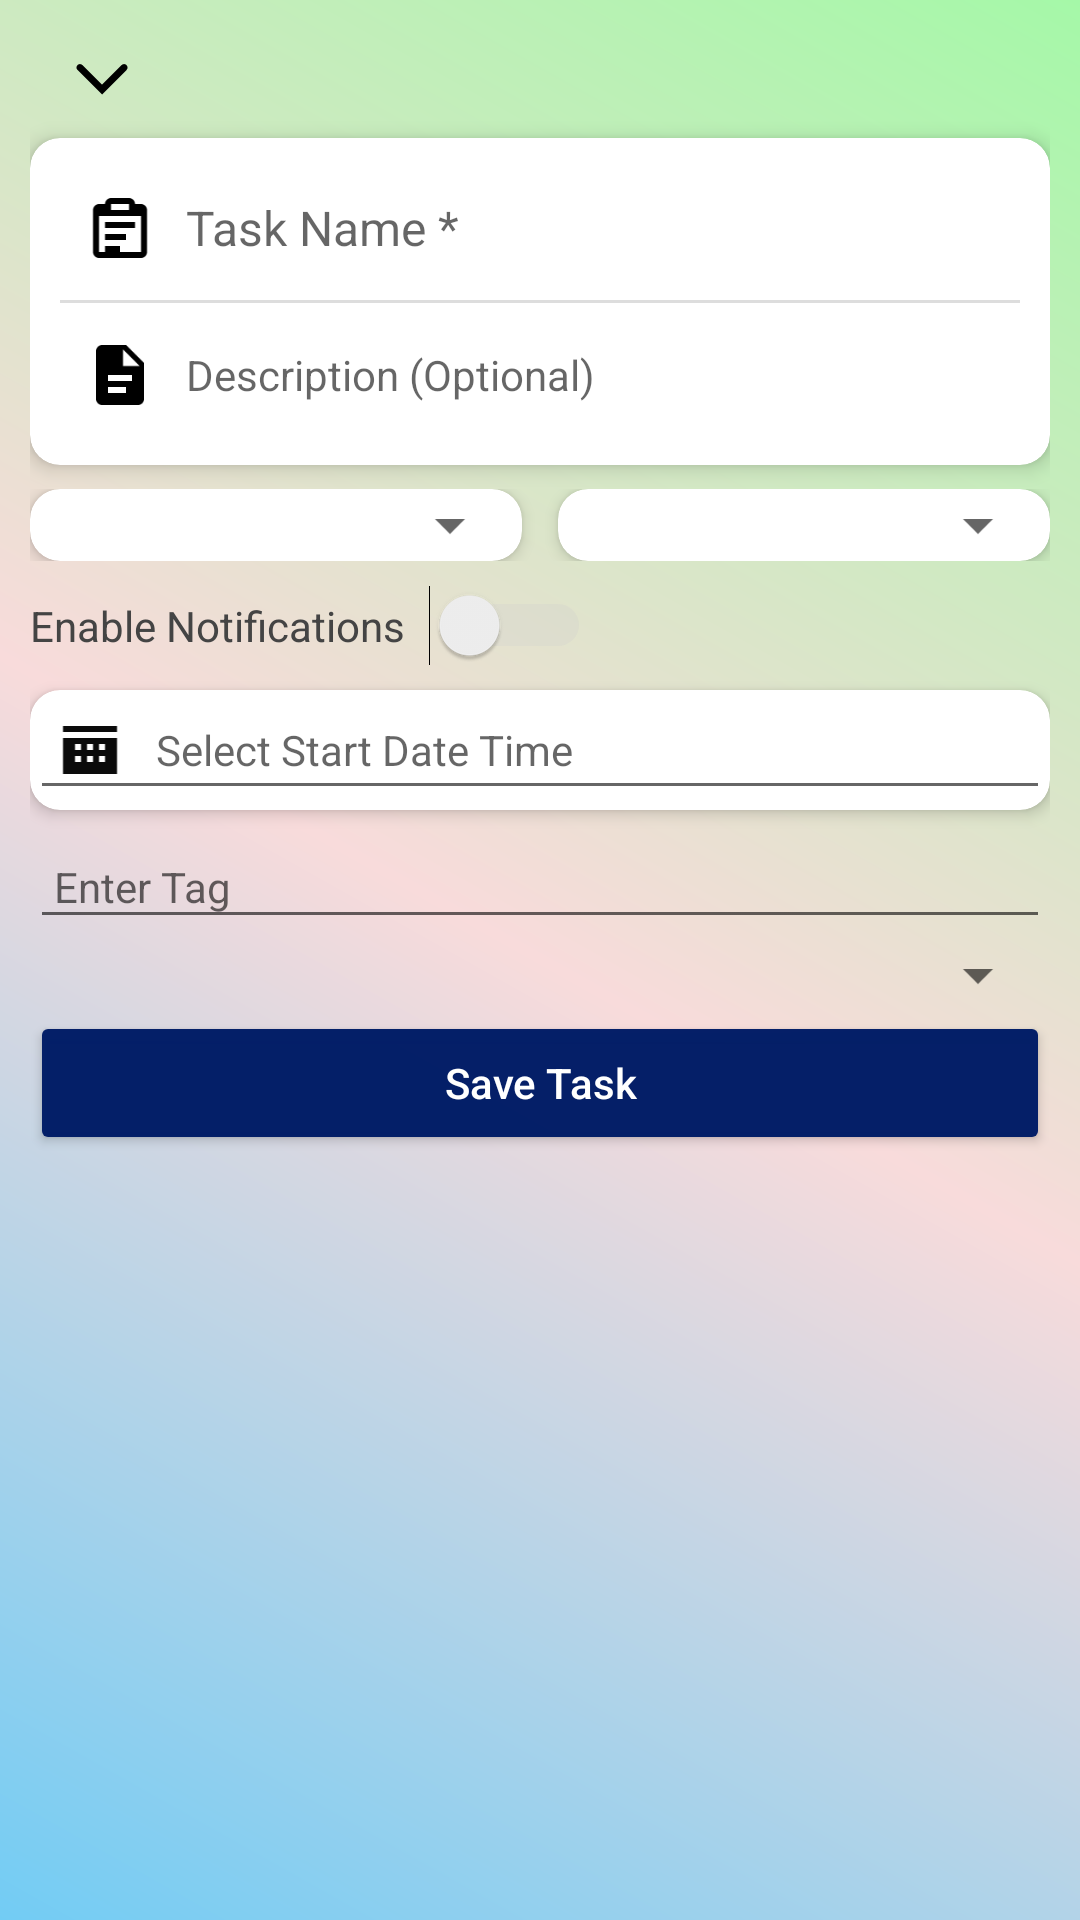

Locate icon controls on the screen. Image size 1080 x 1920, boxes as (x1, y1, x2, y2).
Close: (76, 64, 128, 95)
